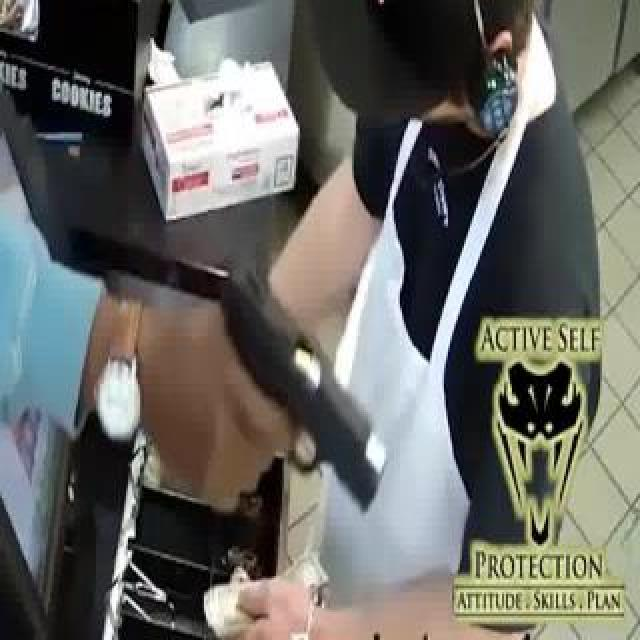Guns: (194, 221, 404, 536)
